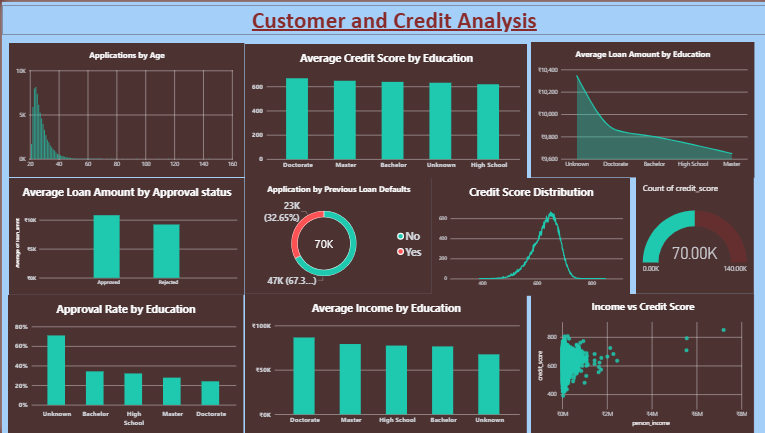

The dashboard page shown, as its layout file describes it:
{"tool":"powerbi","page":{"name":"Customer and Credit Analysis","canvas":[1920,1080],"ordinal":1},"visuals":[{"type":"clusteredColumnChart","title":"Applications by Age","fields":{"Category":["Loan Approval Prediction.person_age"],"Y":["Loan Approval Prediction.Total Applications"]},"box":[17.5,102.5,587.5,335],"z":0},{"type":"clusteredColumnChart","title":"Average Income by Education","fields":{"Category":["Loan Approval Prediction.Education"],"Y":["Avg(Loan Approval Prediction.person_income)"]},"box":[607.5,730,704.2,347.8],"z":1000},{"type":"clusteredColumnChart","fields":{"Category":["Loan Approval Prediction.Education"],"Y":["Loan Approval Prediction.Average Credit Score"]},"box":[607.5,105,705,335],"z":2000},{"type":"stackedAreaChart","title":"Average Loan Amount by Education","fields":{"Category":["Loan Approval Prediction.Education"],"Y":["Avg(gender.loan_amnt)"]},"box":[1322.5,100,557.5,337.5],"z":3000},{"type":"clusteredColumnChart","title":"Approval Rate by Education","fields":{"Category":["Loan Approval Prediction.Education"],"Y":["Loan Approval Prediction.Approval Rate"]},"box":[15,732.5,587.5,347.8],"z":4000},{"type":"scatterChart","title":"Income vs Credit Score","fields":{"X":["Sum(Loan Approval Prediction.person_income)"],"Y":["Sum(Loan Approval Prediction.credit_score)"]},"box":[1322.5,730,557.3,347.8],"z":6000},{"type":"donutChart","title":"Application by Previous Loan Defaults","fields":{"Category":["Loan Approval Prediction.previous_loan_defaults"],"Y":["Loan Approval Prediction.Total Applications"]},"box":[607.5,437.5,466.6,291.6],"z":7000},{"type":"lineChart","title":"Credit Score Distribution","fields":{"Category":["Loan Approval Prediction.credit_score"],"Y":["Loan Approval Prediction.Total Applications"]},"box":[1075,440,494.6,293.8],"z":8000},{"type":"clusteredColumnChart","title":"Average Loan Amount by Approval status","fields":{"Category":["Loan Approval Prediction.loan_approval_status"],"Y":["Avg(Loan Approval Prediction.loan_amnt)"]},"box":[17.5,440,587.5,291.6],"z":9000},{"type":"gauge","fields":{"Y":["CountNonNull(Loan Approval Prediction.credit_score)"]},"box":[1585,435,293.8,293.8],"z":10000},{"type":"textbox","box":[0,7.5,1920,75],"z":10001}]}

Visuals, with their boxes in screenshot pixels (x1, y1, x2, y2), scaled from the page's 1920x1080 canvas onto the 765x433 screenshot:
"Applications by Age" clusteredColumnChart: crop(7, 41, 241, 175)
"Average Income by Education" clusteredColumnChart: crop(242, 293, 523, 432)
clusteredColumnChart - Loan Approval Prediction.Education x Loan Approval Prediction.Average Credit Score: crop(242, 42, 523, 176)
"Average Loan Amount by Education" stackedAreaChart: crop(527, 40, 749, 175)
"Approval Rate by Education" clusteredColumnChart: crop(6, 294, 240, 432)
"Income vs Credit Score" scatterChart: crop(527, 293, 749, 432)
"Application by Previous Loan Defaults" donutChart: crop(242, 175, 428, 292)
"Credit Score Distribution" lineChart: crop(428, 176, 625, 294)
"Average Loan Amount by Approval status" clusteredColumnChart: crop(7, 176, 241, 293)
gauge - CountNonNull(Loan Approval Prediction.credit_score): crop(632, 174, 749, 292)
textbox: crop(0, 3, 764, 33)
